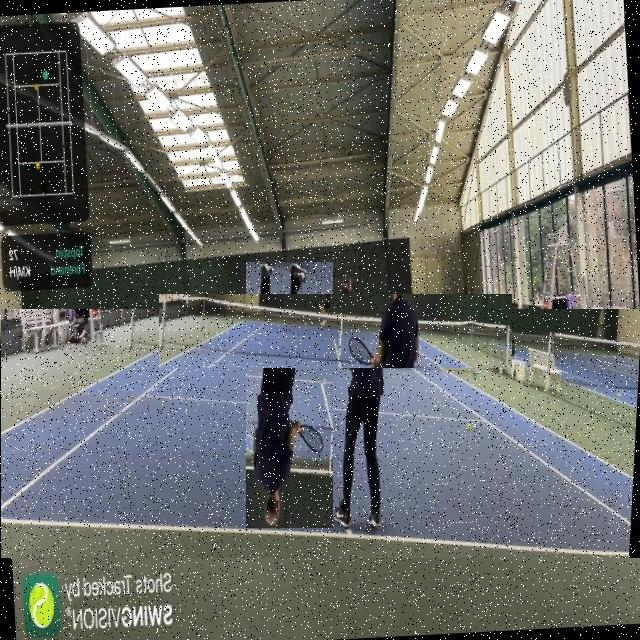court: (1, 309, 640, 558)
net: (160, 294, 514, 368)
player: (246, 262, 333, 528)
